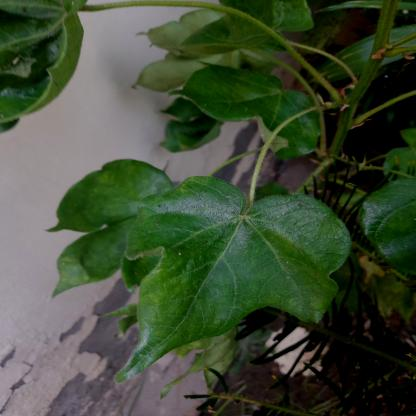curl_stage1: (132, 263, 198, 315), (76, 168, 133, 212), (369, 211, 416, 245), (288, 288, 331, 315), (177, 180, 219, 198)
curl_stage2: (46, 30, 76, 98)
healthy: (212, 207, 308, 282), (154, 206, 210, 244), (182, 78, 248, 110)
